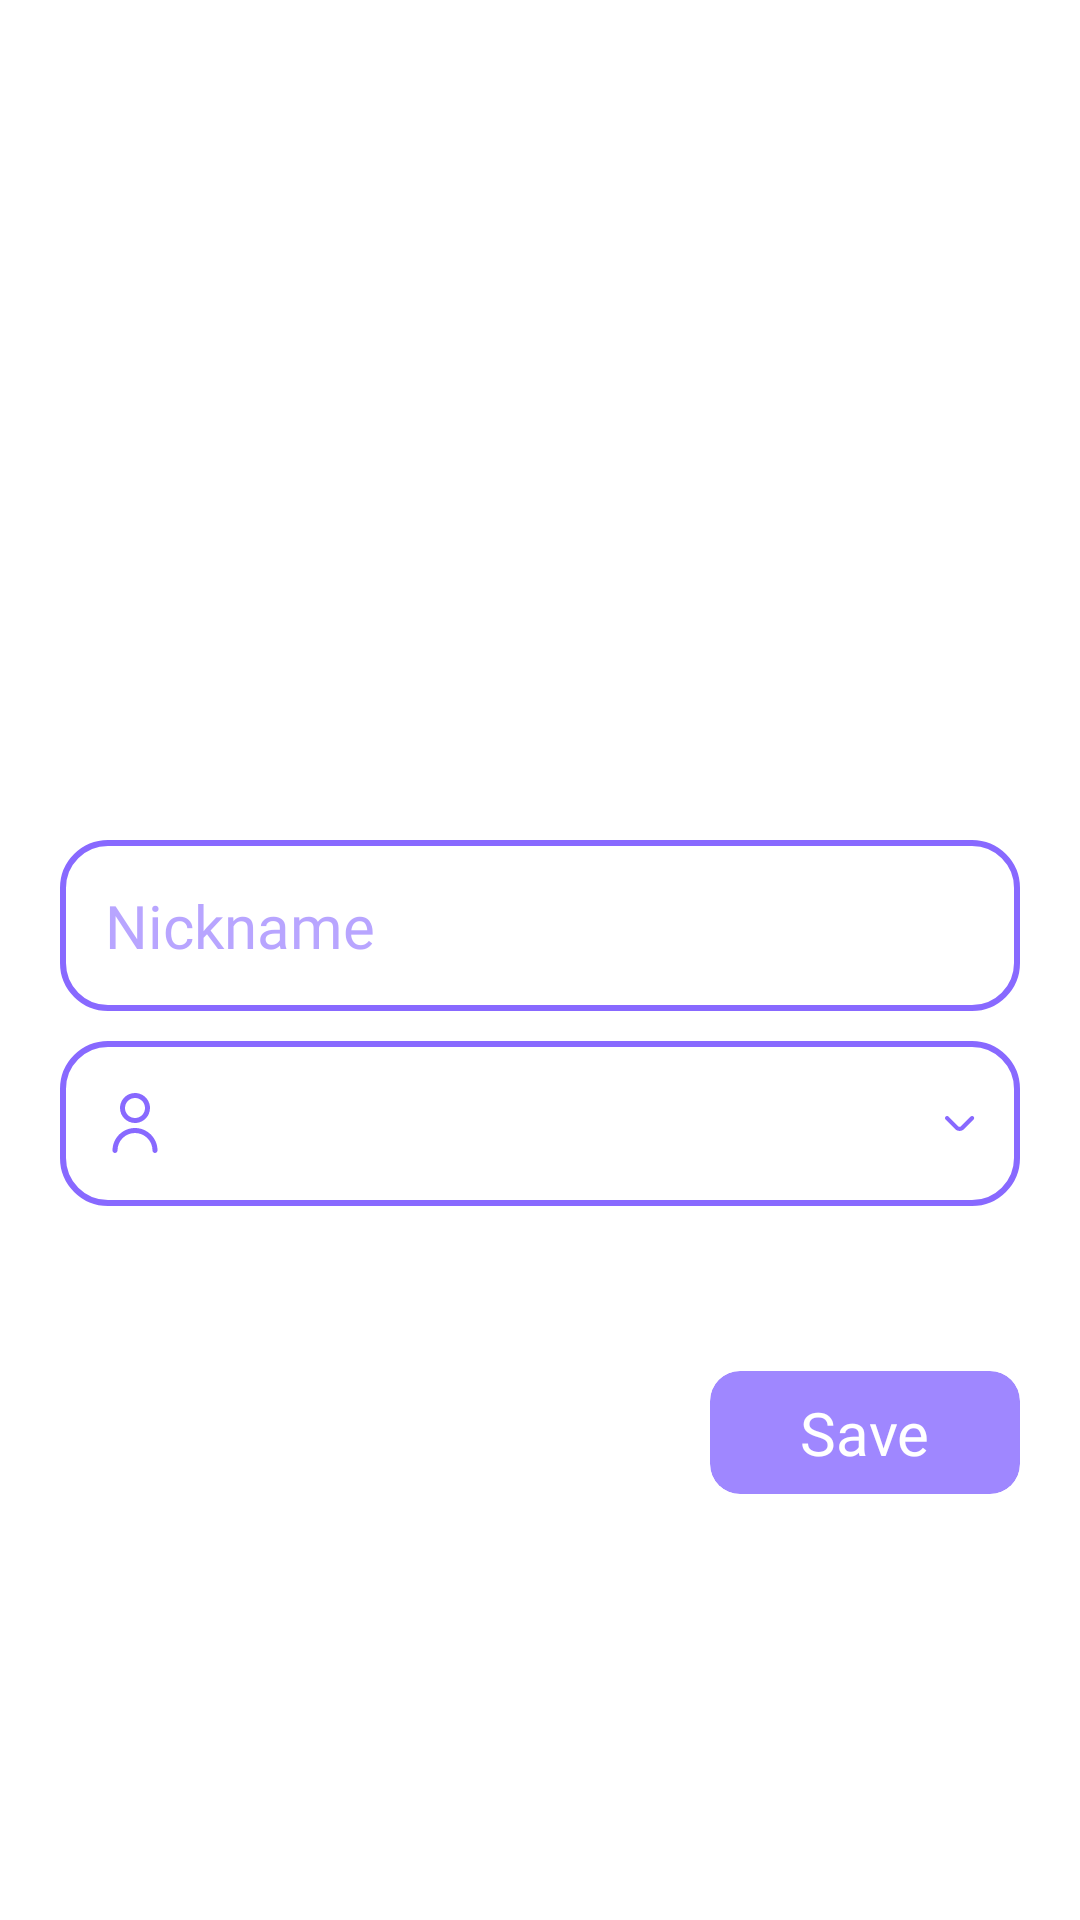

Named icons in this screenshot (1080×1920) and their bounding boxes, (x1, y1, x2, y2):
user: (112, 1093, 158, 1153)
